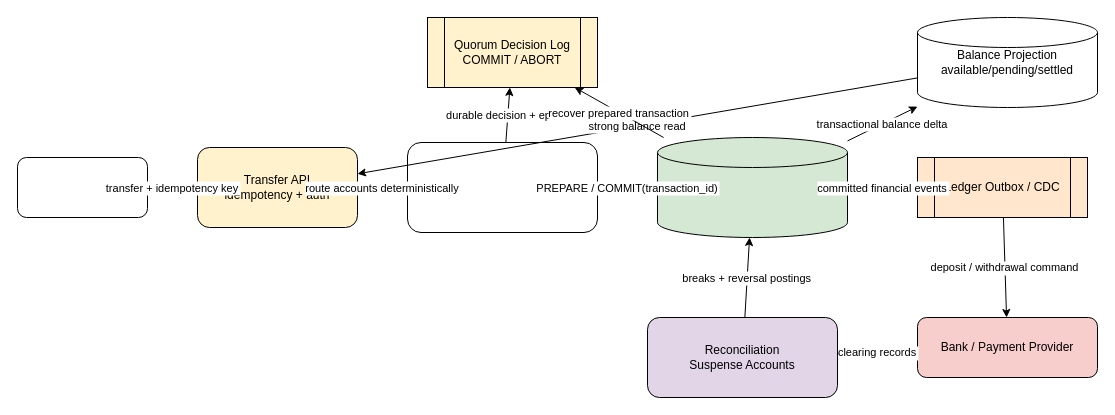
Image size: 1115x415. Some labels were removed from this diagram. Each missing label, with the centre of its shape:
"Ledger Participant Shards Prepared Postings + Locks" belongs at (752,187).
"Routing Directory + Fenced 2PC Coordinator" belongs at (502,187).
"Wallet Clients" belongs at (82,187).
